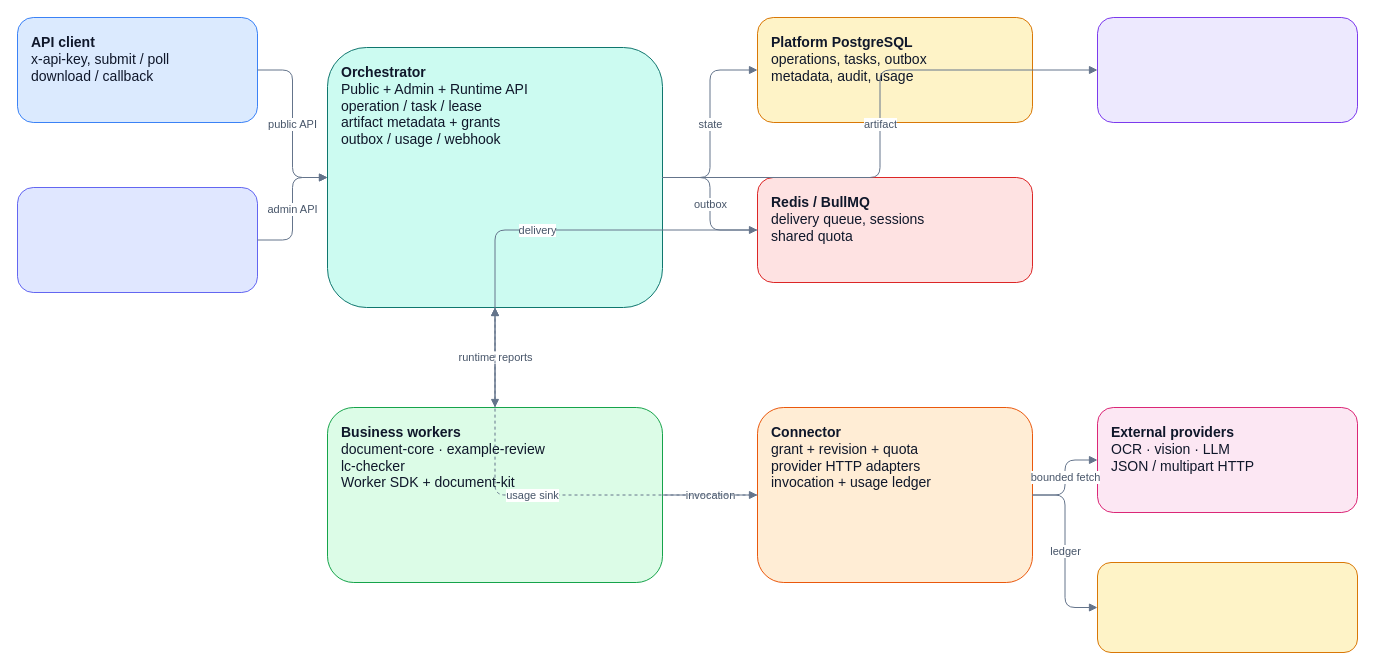
This 1375x670 diagram has some shape labels left out. The centre of each missing label's shape, as x and y in pixels:
"Admin operator session / bearer, RBAC registry, profile, audit" goes at [137,239].
"Connector PostgreSQL revision, invocation, outbox" goes at [1227,607].
"S3 / artifact store versioned bytes, multipart optional backend in code" goes at [1227,69].
